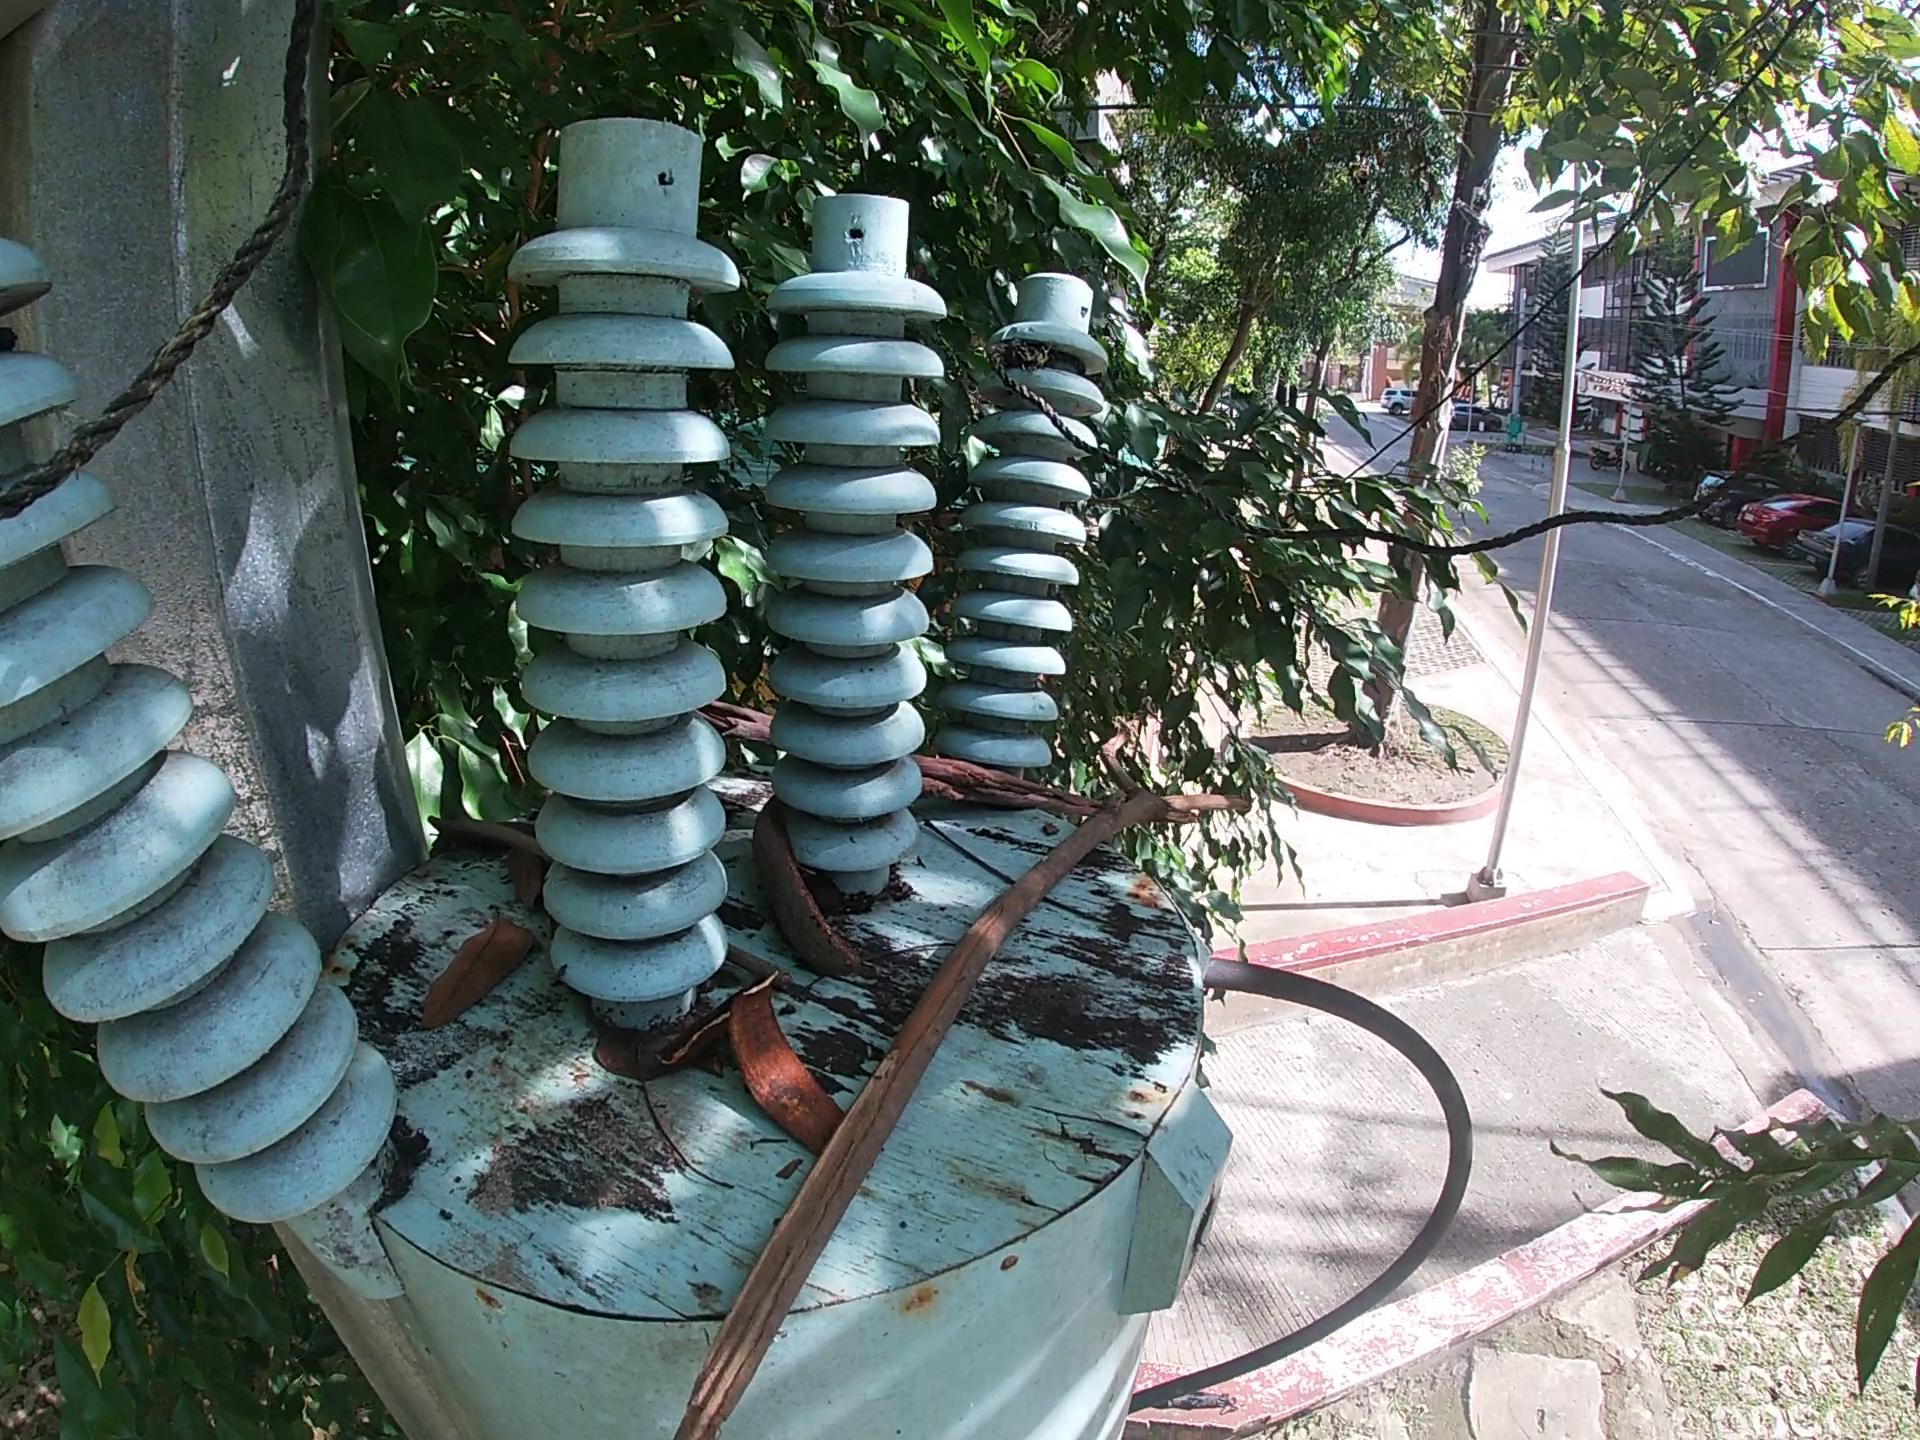leaf: (408, 902, 534, 1038), (585, 1021, 692, 1088), (502, 847, 546, 917)
mahogany fruit: (723, 973, 847, 1159), (745, 793, 865, 979)
tree branch: (667, 706, 1265, 1438), (694, 699, 1110, 818), (413, 814, 547, 859), (723, 944, 791, 988)
